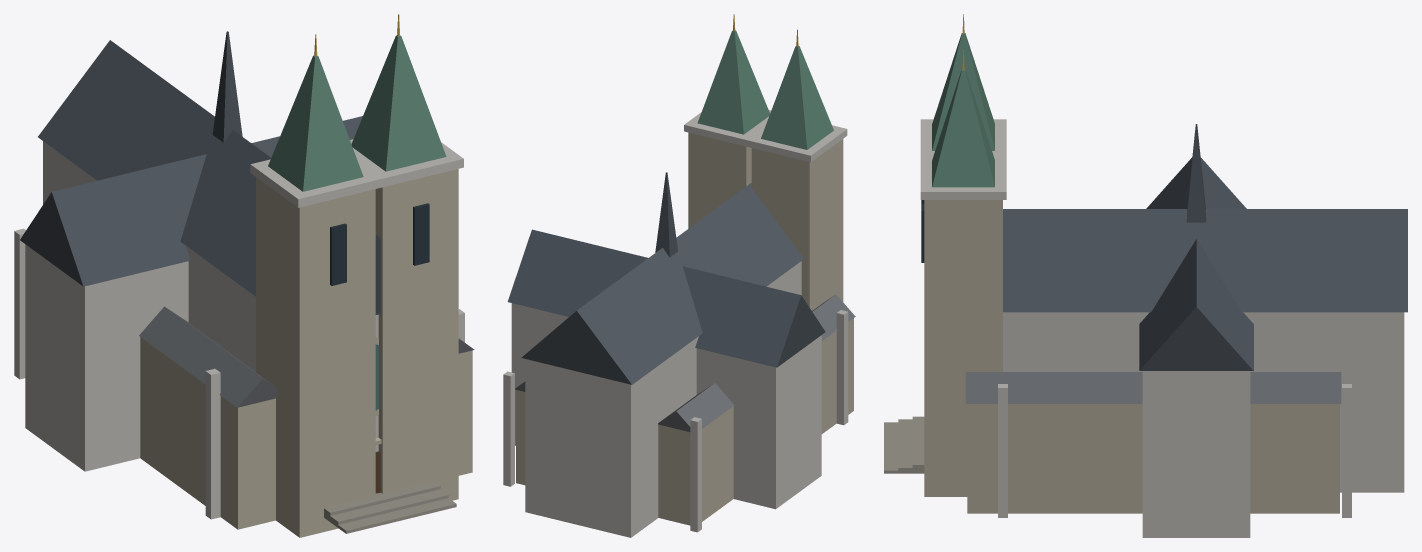
File: mobile-low.glb
The picture shows the model from 3 angles, left to right: view 1: azimuth 30°, elevation 25°; view 2: azimuth 150°, elevation 25°; view 3: azimuth 270°, elevation 25°; orthographic projection. The views are drawn at different scales.
Parts seen in each view (by area): view 1: lm.grace-cathedral; view 2: lm.grace-cathedral; view 3: lm.grace-cathedral.
Part boxes in pixels (left/top/right/bottom): lm.grace-cathedral: left=14, top=14, right=474, bottom=537; lm.grace-cathedral: left=503, top=14, right=855, bottom=537; lm.grace-cathedral: left=884, top=14, right=1407, bottom=537.
Bounding box in the file's own units: 51 × 66.2 × 73.1.
